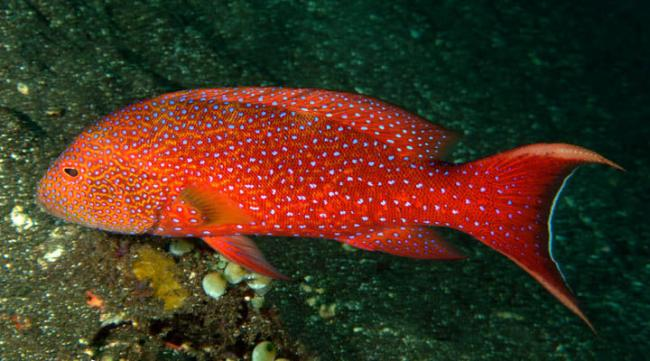fish: (35, 85, 624, 335)
